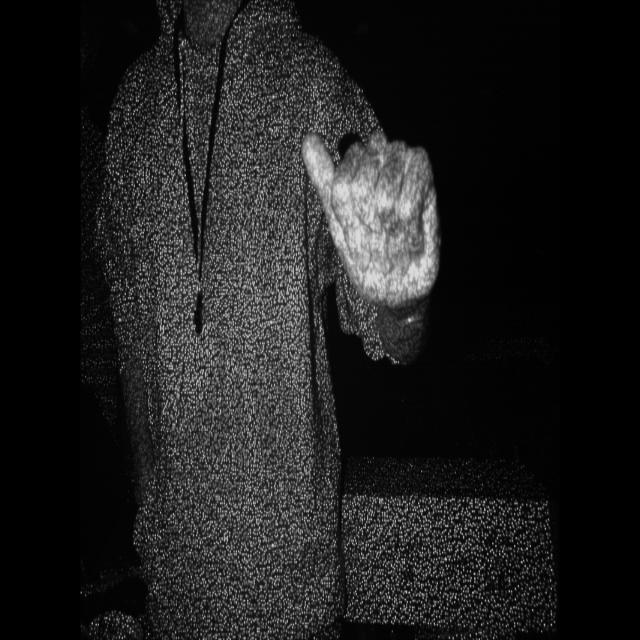A: (298, 104, 444, 342)
